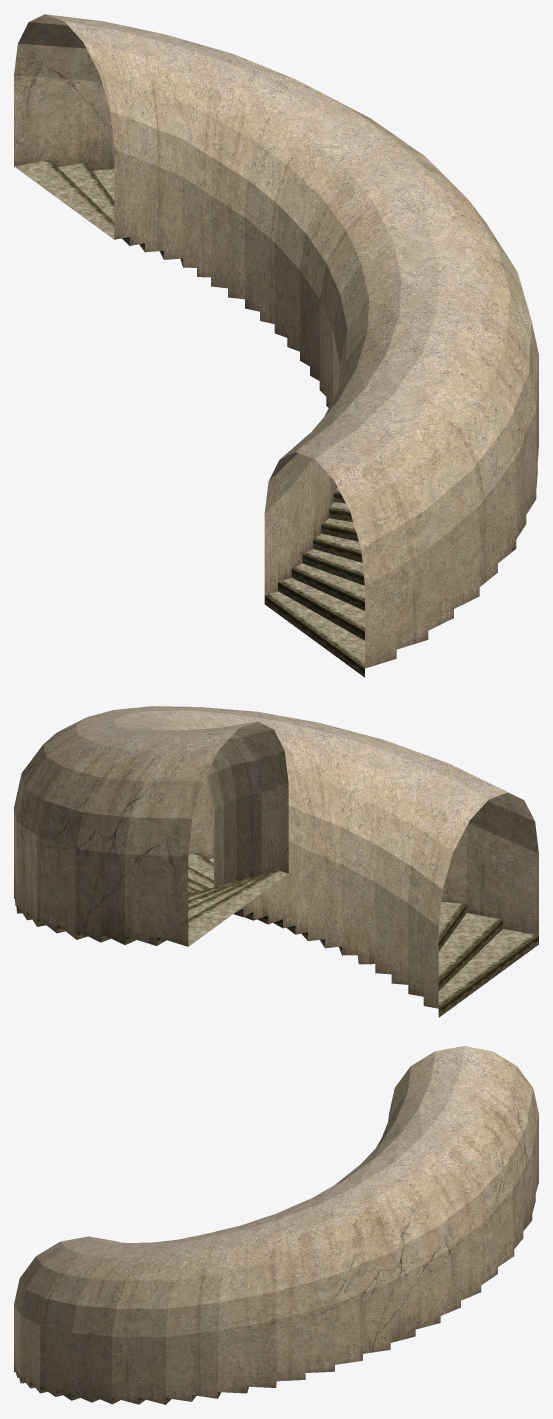
The model's file is thm_tato_jabbas_palace_r3_stairs1_mesh_r3.fbx.
3 views of the same model, one above another, from view 1: azimuth 30°, elevation 25°; view 2: azimuth 150°, elevation 25°; view 3: azimuth 270°, elevation 25° (orthographic). The views are drawn at different scales.
Parts seen in each view (by area): view 1: mesh_node; view 2: mesh_node; view 3: mesh_node.
Boxes of the visible parts, box(x1,y1,x2,y2) form: mesh_node: box(14, 14, 538, 677); mesh_node: box(14, 706, 538, 1017); mesh_node: box(14, 1046, 538, 1404).
Size of the model in its own units: 7 by 9.6 by 14.
